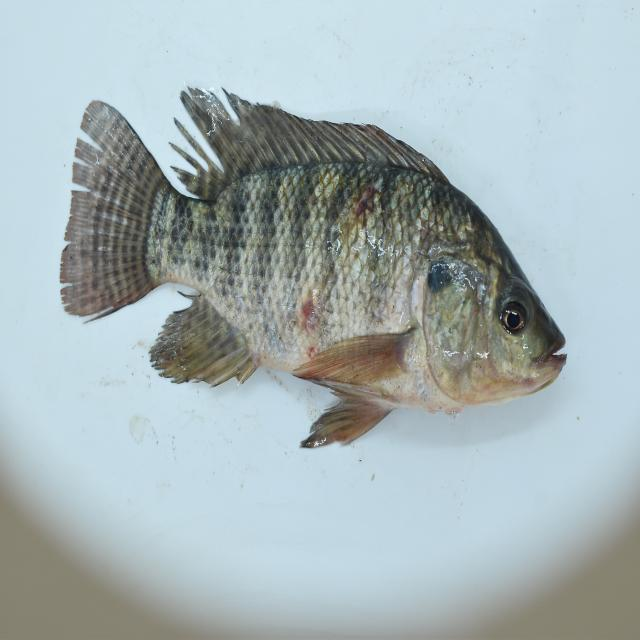Columnaris Disease: (59, 81, 568, 456)
